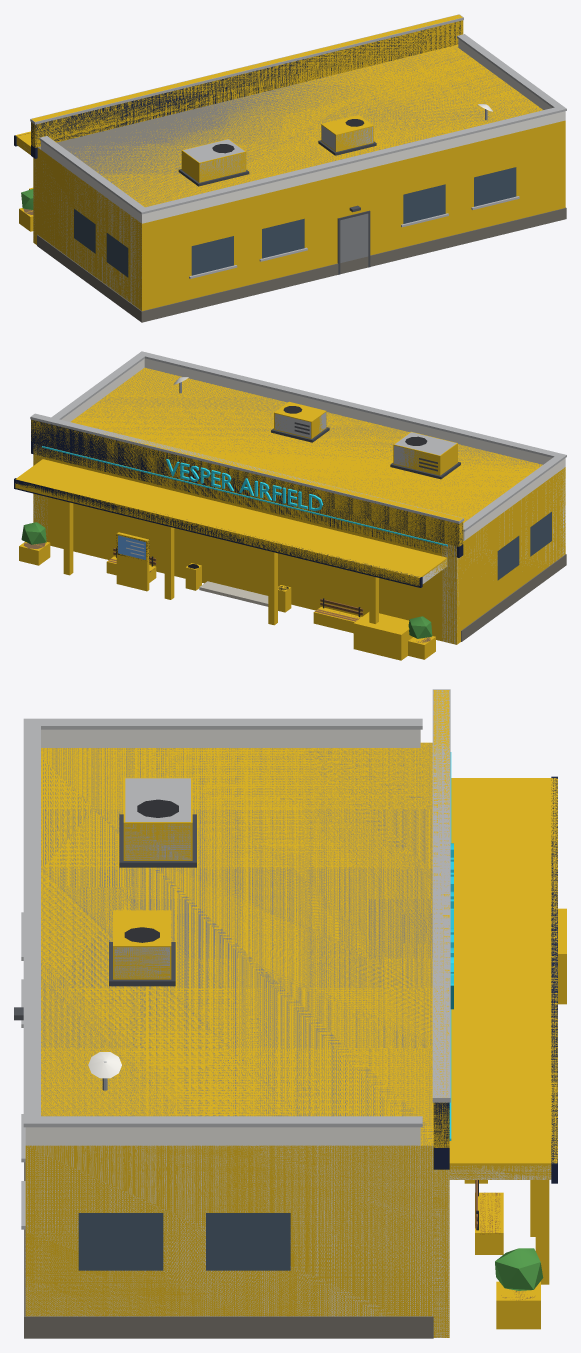
The model's file is lm_terminal.glb.
The picture shows the model from 3 angles, top to bottom: view 1: azimuth 30°, elevation 25°; view 2: azimuth 150°, elevation 25°; view 3: azimuth 270°, elevation 25°; orthographic projection. The views are drawn at different scales.
Visible parts, largest first — view 1: lm_terminal__col, lm_terminal__shell; view 2: lm_terminal__col, lm_terminal__shell; view 3: lm_terminal__col, lm_terminal__shell.
Part boxes in pixels (x1,y1,x2,y2): lm_terminal__col: [15, 14, 565, 310]; lm_terminal__shell: [14, 14, 566, 322]; lm_terminal__col: [15, 367, 565, 660]; lm_terminal__shell: [14, 351, 566, 644]; lm_terminal__col: [25, 690, 566, 1337]; lm_terminal__shell: [14, 689, 557, 1338].
Size of the model in its own units: 18.24 by 5.05 by 10.43.
2 materials, 1 textured.
